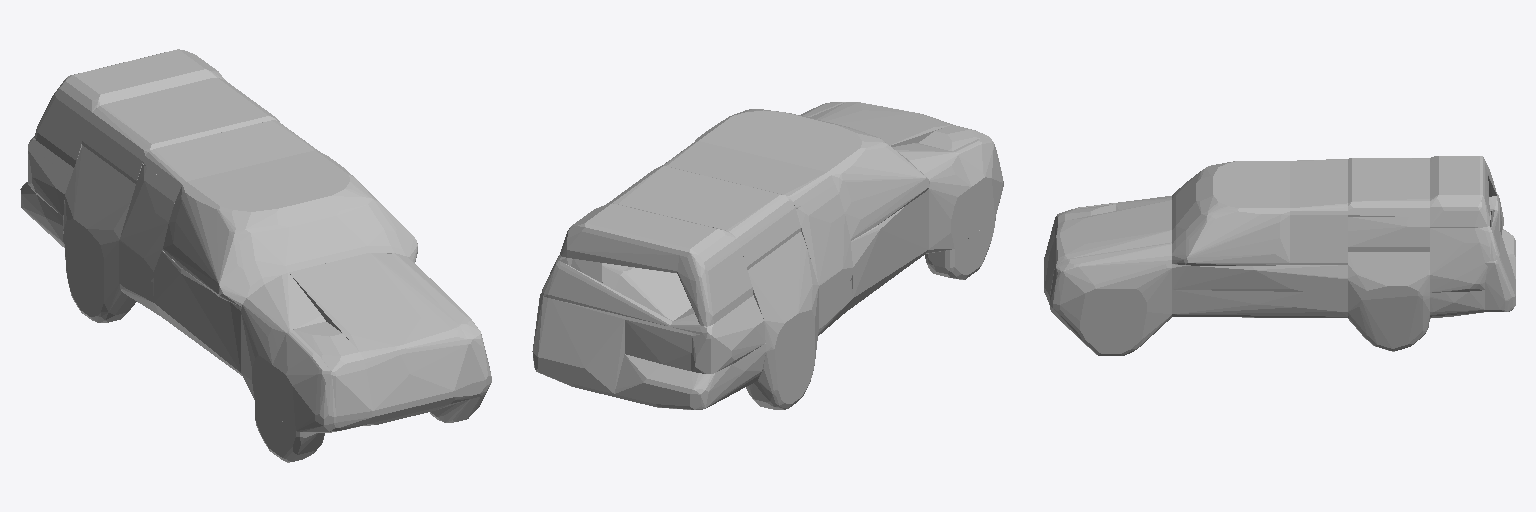
The robot description file, URDF, robot "root":
<robot name="root">
  <link name="link_001">
    <visual>
      <origin xyz="0 0 0" rpy="0 0 0"/>
      <geometry>
        <mesh filename="decomposed_015.obj" scale="1.0000E+00 1.0000E+00 1.0000E+00"/>
      </geometry>
      <material name="">
        <color rgba="7.50E-01 7.50E-01 7.50E-01 1"/>
      </material>
    </visual>
    <collision>
      <origin xyz="0 0 0" rpy="0 0 0"/>
      <geometry>
        <mesh filename="decomposed_015.obj" scale="1.0000E+00 1.0000E+00 1.0000E+00"/>
      </geometry>
    </collision>
  </link>
</robot>

--- Facts derived from the render (not from the file) ---
3 views of the same robot in one strip: view 1: azimuth 30°, elevation 25°; view 2: azimuth 150°, elevation 25°; view 3: azimuth 270°, elevation 25° (orthographic).
Robot: root — 1 links, 0 joints (none); root link link_001; default pose: all joints at 0.
Visible links, largest first — view 1: link_001; view 2: link_001; view 3: link_001.
Boxes of the visible links, <box> form: link_001: <box>20,49,491,462</box>; link_001: <box>532,102,1003,409</box>; link_001: <box>1044,156,1515,355</box>.
Bounding box of the posed robot: 0.1038 × 0.2809 × 0.0977 m (x, y, z).
1 mesh visuals loaded from 1 distinct referenced files (1 OBJ).